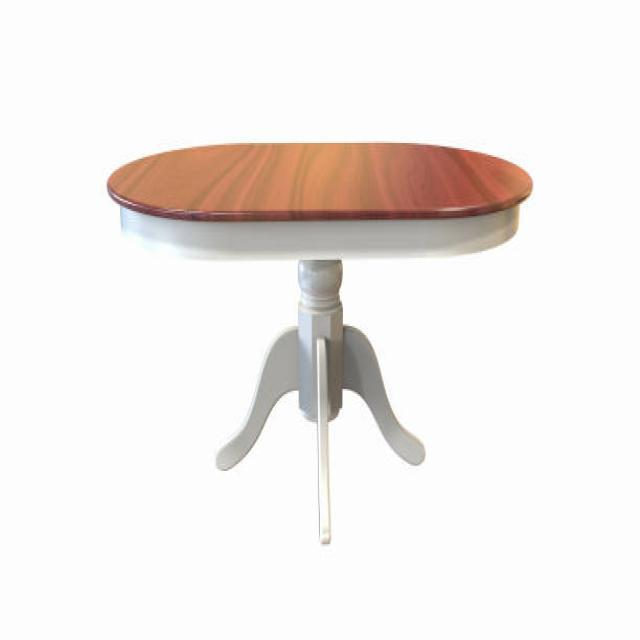table: (106, 140, 534, 544)
